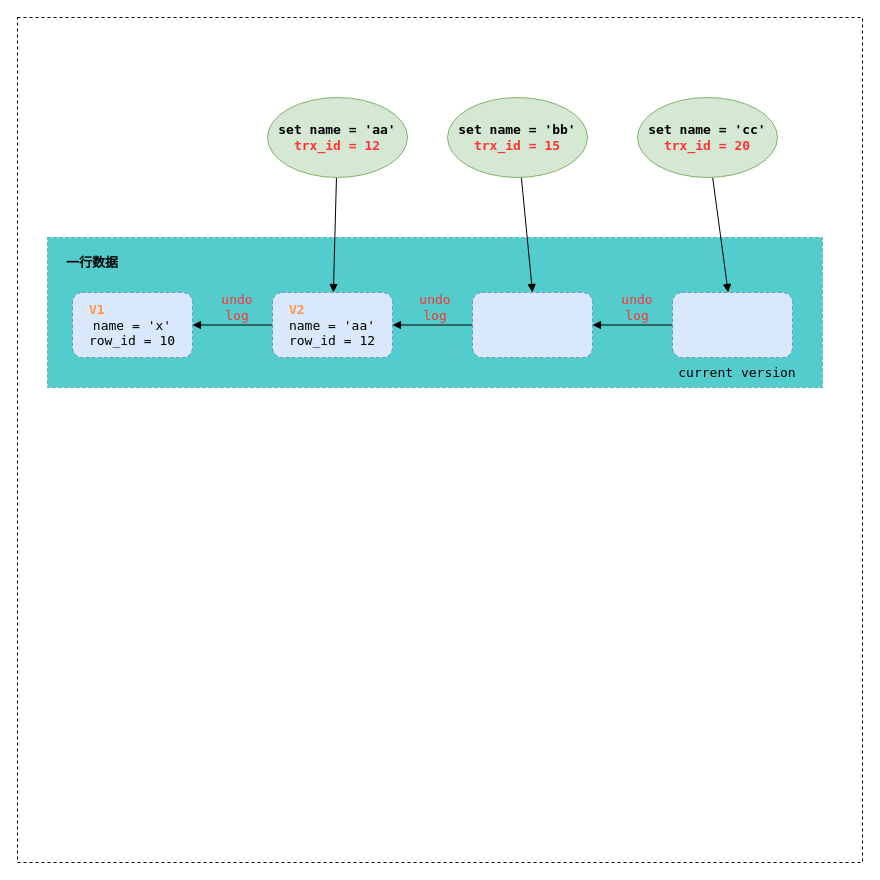
Image size: 880x880. Some labels were removed from this diagram. Each missing label, with the box of its shape:
V3 name= 'bb' row_id = 15: (472, 292, 592, 358)
V4 name = 'cc' row_id = 20: (672, 292, 792, 358)
